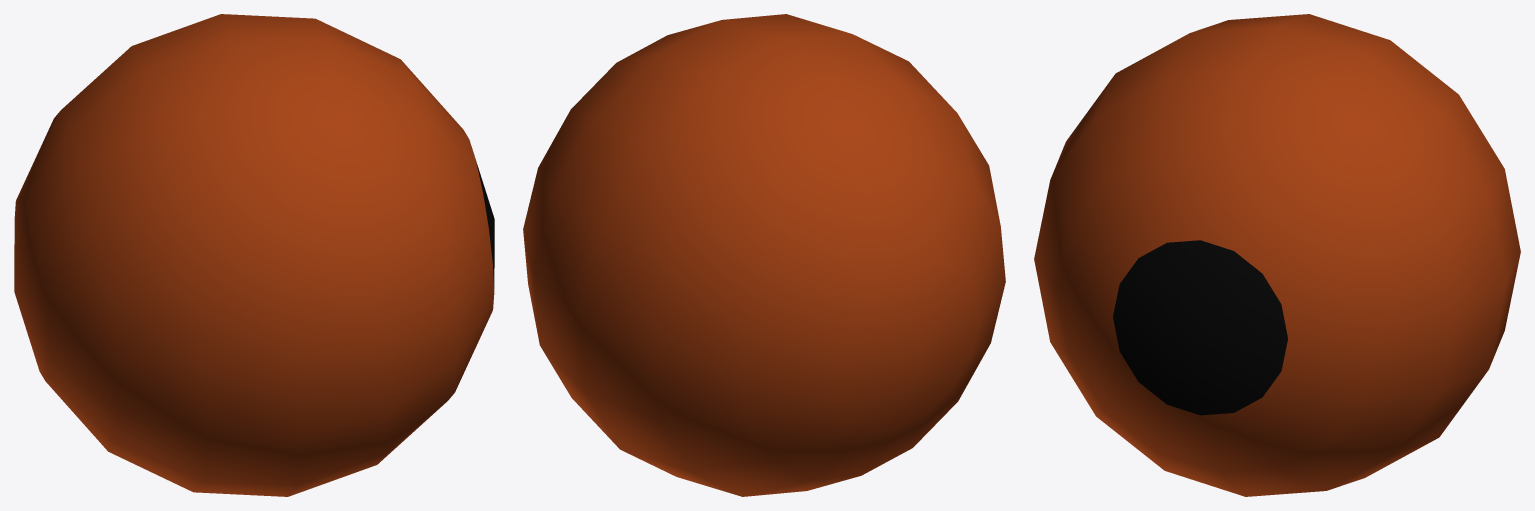
File: iguana_eye.obj
The picture shows the model from 3 angles, left to right: view 1: azimuth 30°, elevation 25°; view 2: azimuth 150°, elevation 25°; view 3: azimuth 270°, elevation 25°; orthographic projection.
Parts seen in each view (by area): view 1: eye; view 2: eye; view 3: eye.
Boxes of the visible parts, <box> form: eye: <box>14,14,494,496</box>; eye: <box>523,14,1005,496</box>; eye: <box>1034,14,1520,496</box>.
Size of the model in its own units: 0.0155 by 0.0155 by 0.0156.
